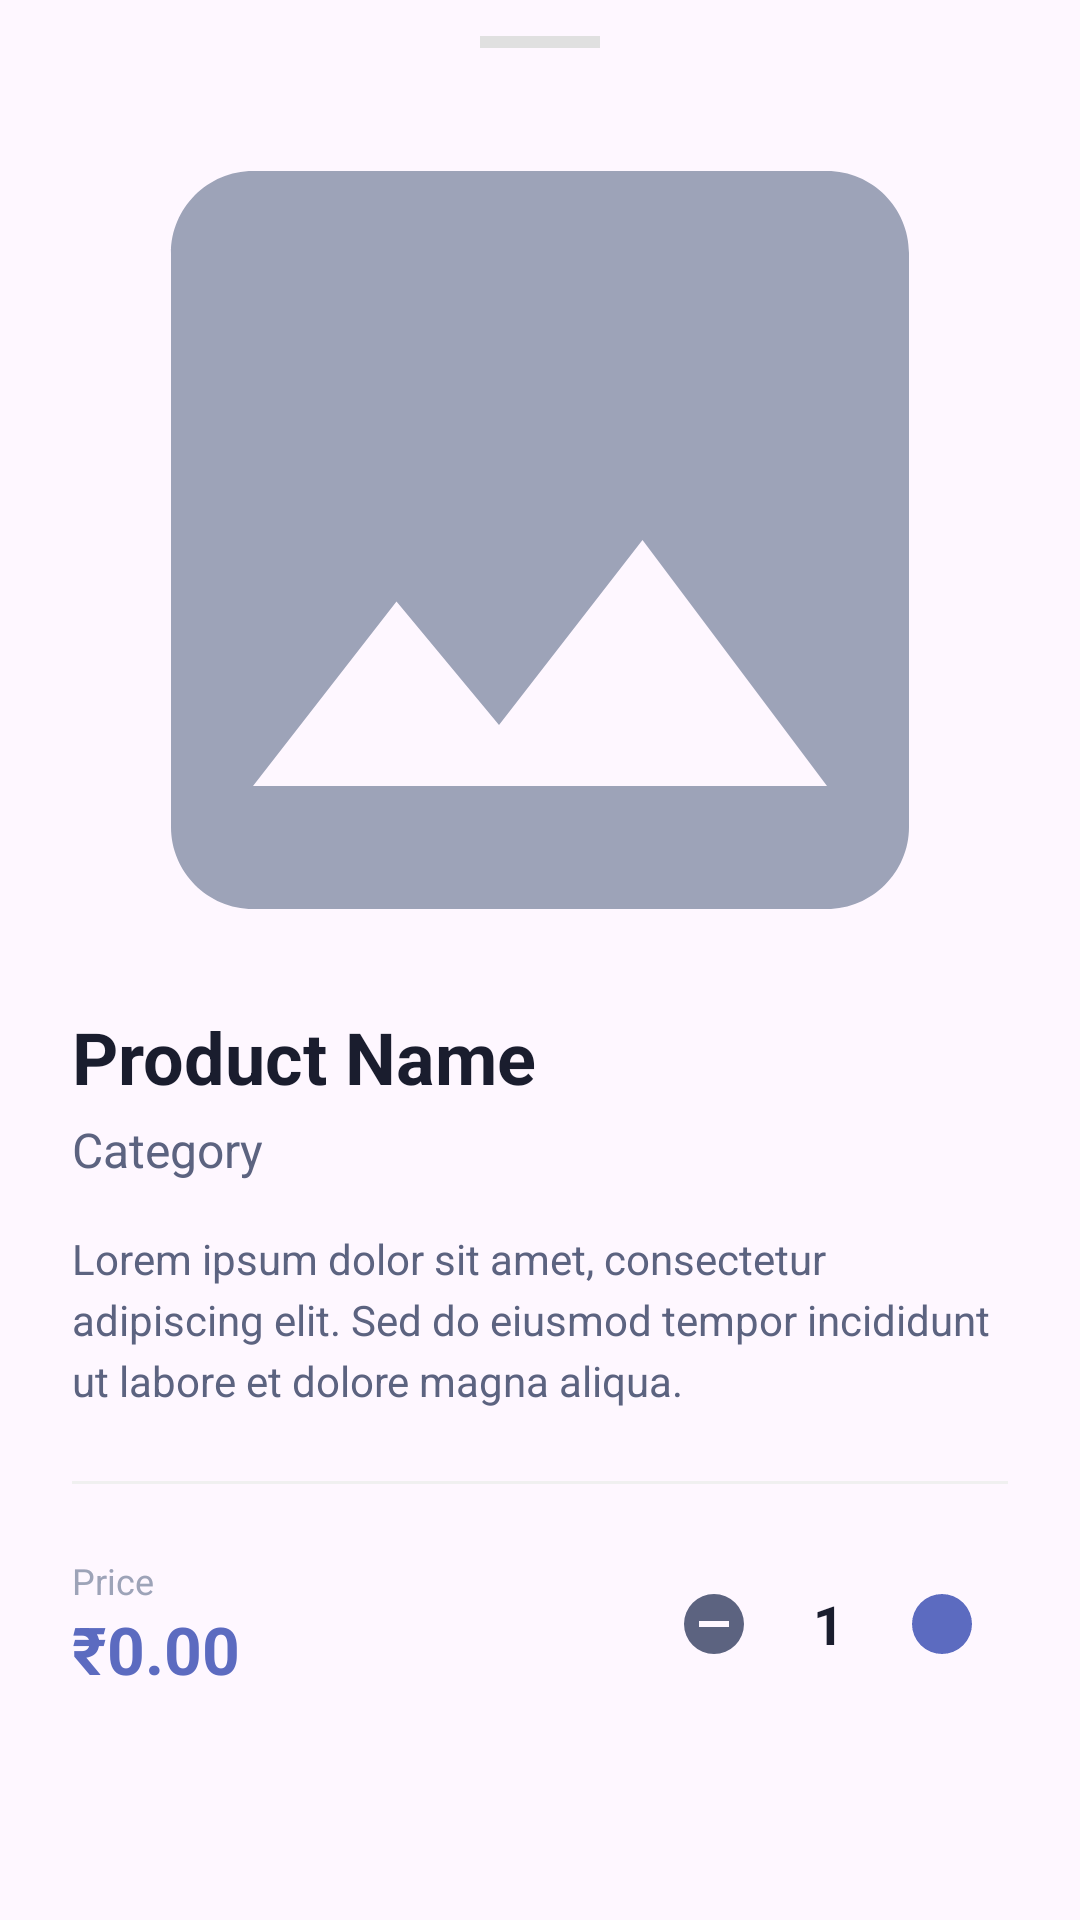

Named icons in this screenshot (1080 x 1920) and their centers, (x,y):
minus circle: (714,1624)
